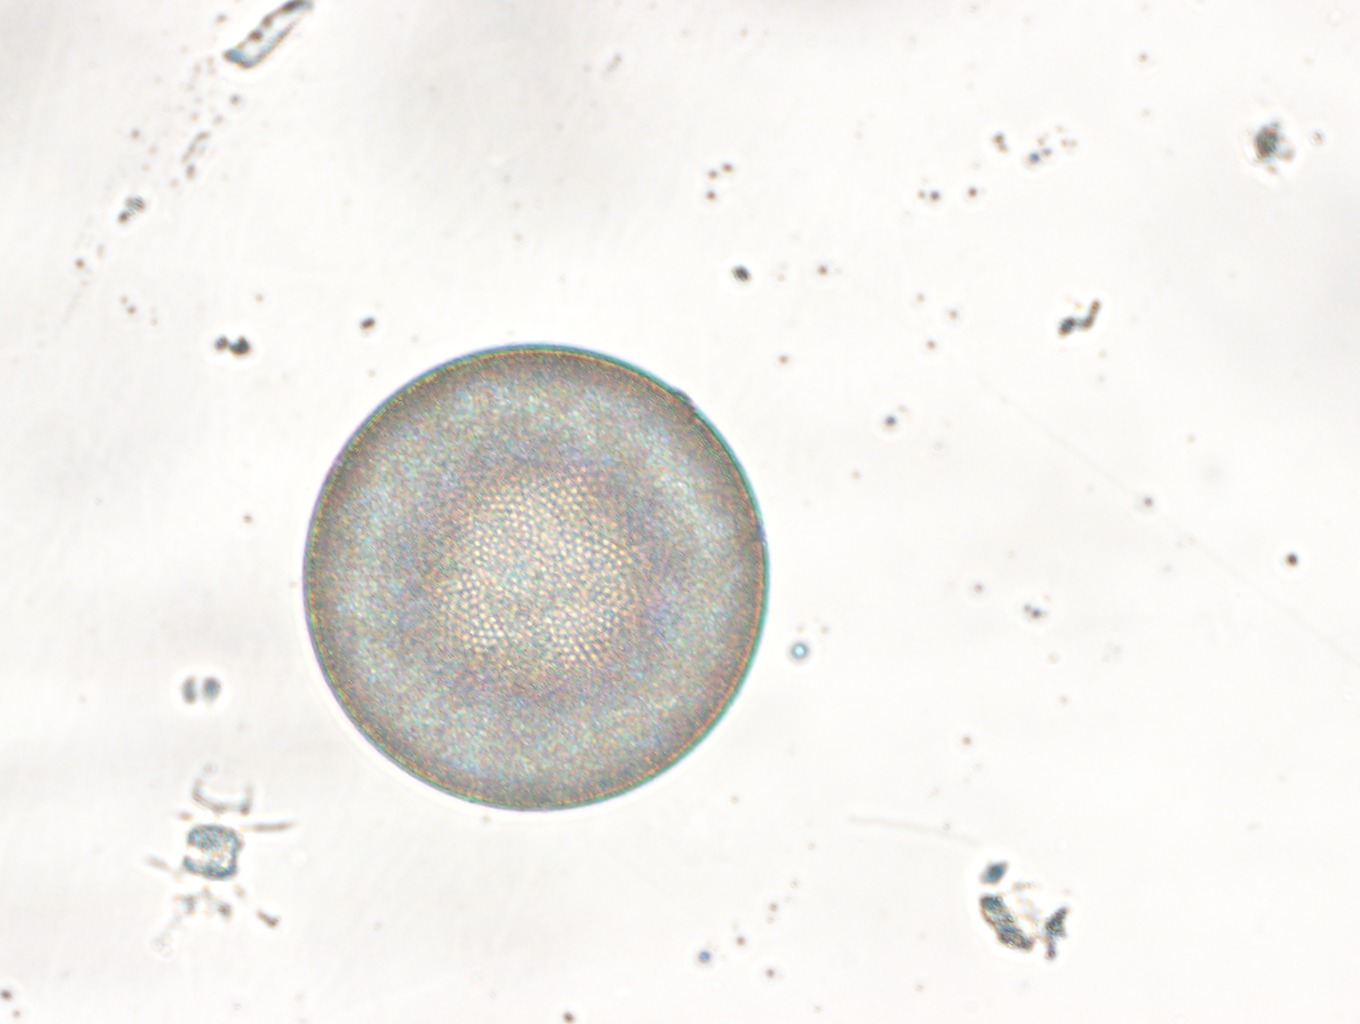chaetoceros: (151, 772, 294, 899)
coscinodiscus: (291, 335, 773, 824)
